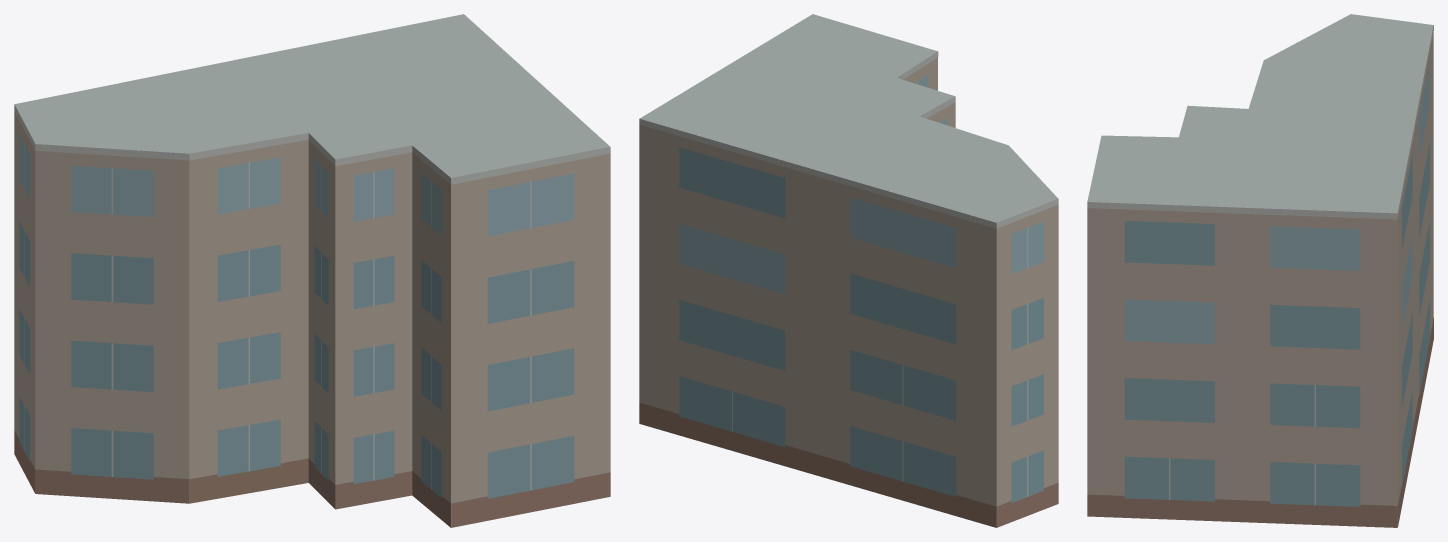
Rendered from survey-upis-33032928.glb.
3 views of the same model, side by side, from view 1: azimuth 30°, elevation 25°; view 2: azimuth 150°, elevation 25°; view 3: azimuth 270°, elevation 25° (orthographic). The views are drawn at different scales.
Visible parts, largest first — view 1: survey-upis-33032928.tmp; view 2: survey-upis-33032928.tmp; view 3: survey-upis-33032928.tmp.
Boxes of the visible parts, x1,y1,x2,y2 form: survey-upis-33032928.tmp: (14, 14, 610, 527); survey-upis-33032928.tmp: (639, 14, 1058, 527); survey-upis-33032928.tmp: (1087, 14, 1433, 527).
Size of the model in its own units: 17.14 by 12.6 by 12.59.
